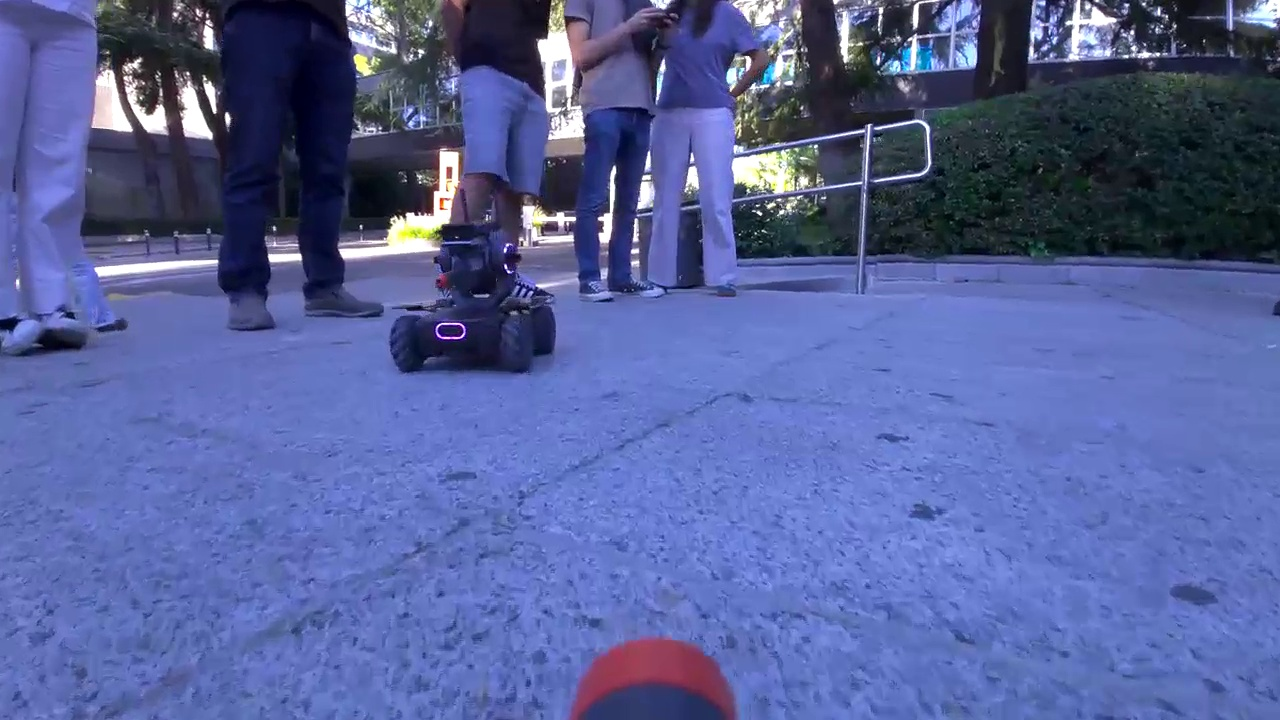robot: (389, 222, 558, 375)
